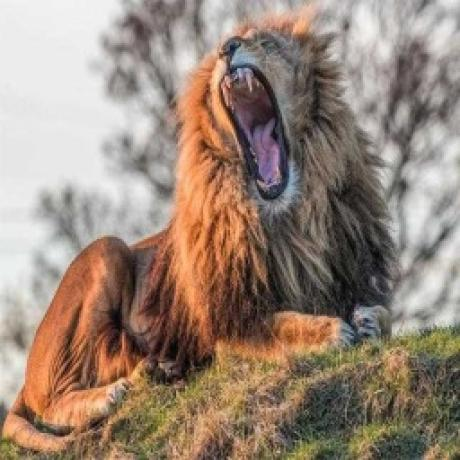Lion: (0, 9, 399, 460)
